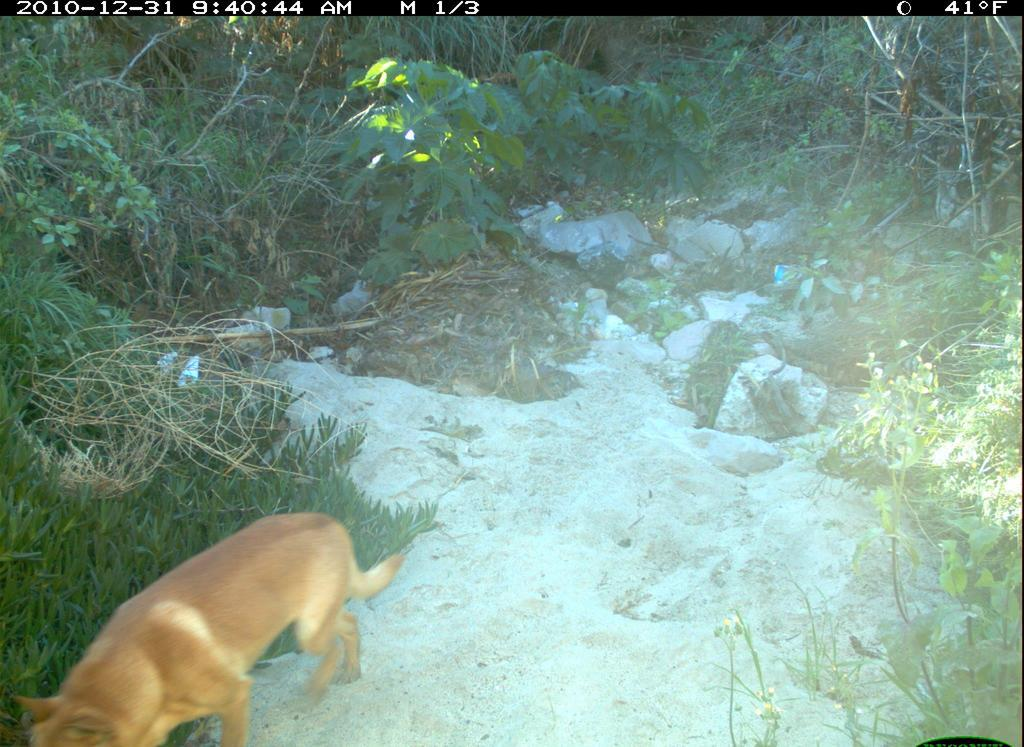dog: (4, 509, 417, 745)
